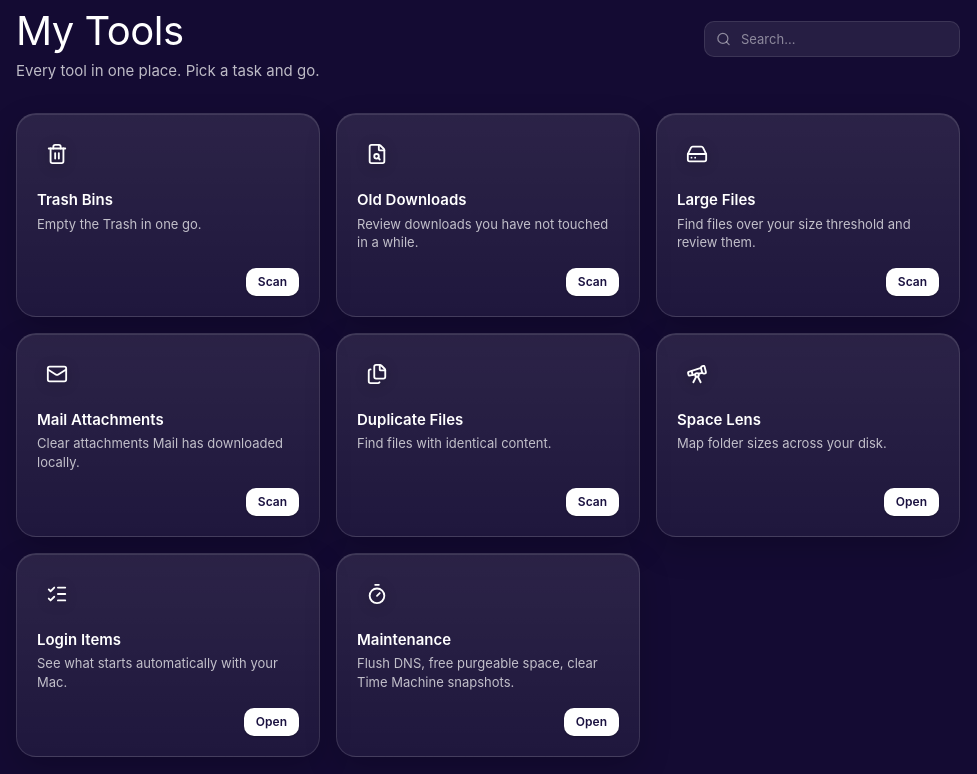
Test: <MyTools /> › search narrows the grid
Type "mail" into the search field named "Search tools".
click(832, 39); type("mail")  # box [704,21,960,57]
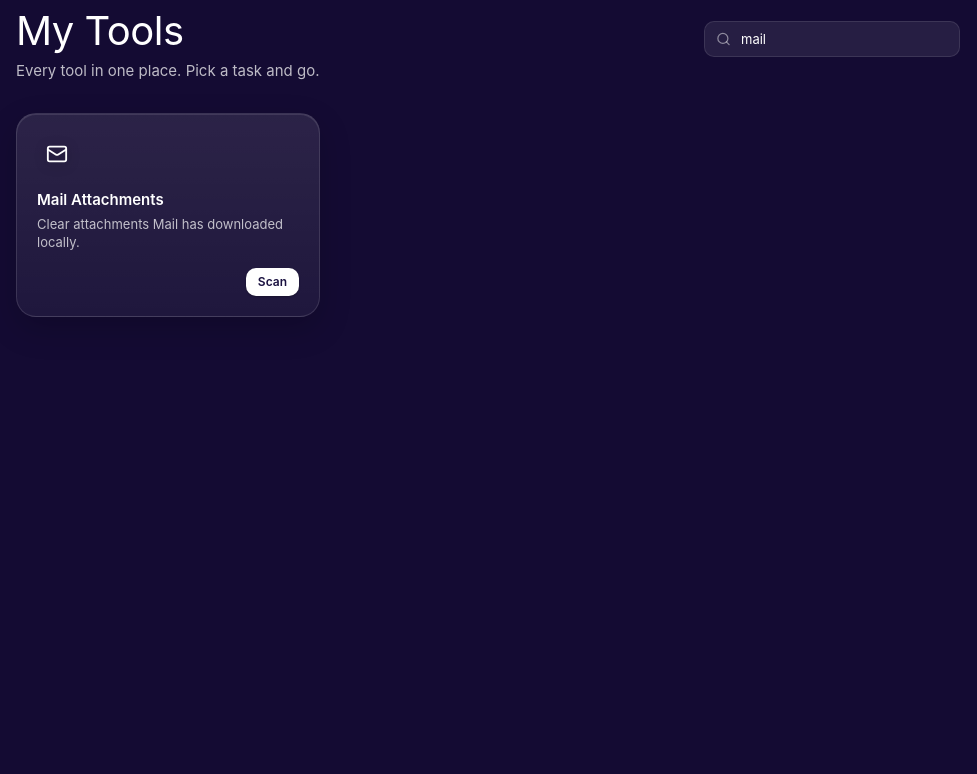
Expected: the text "Mail Attachments" is shown, [37,190,164,209]
Expected: the text "Trash Bins" is gone
